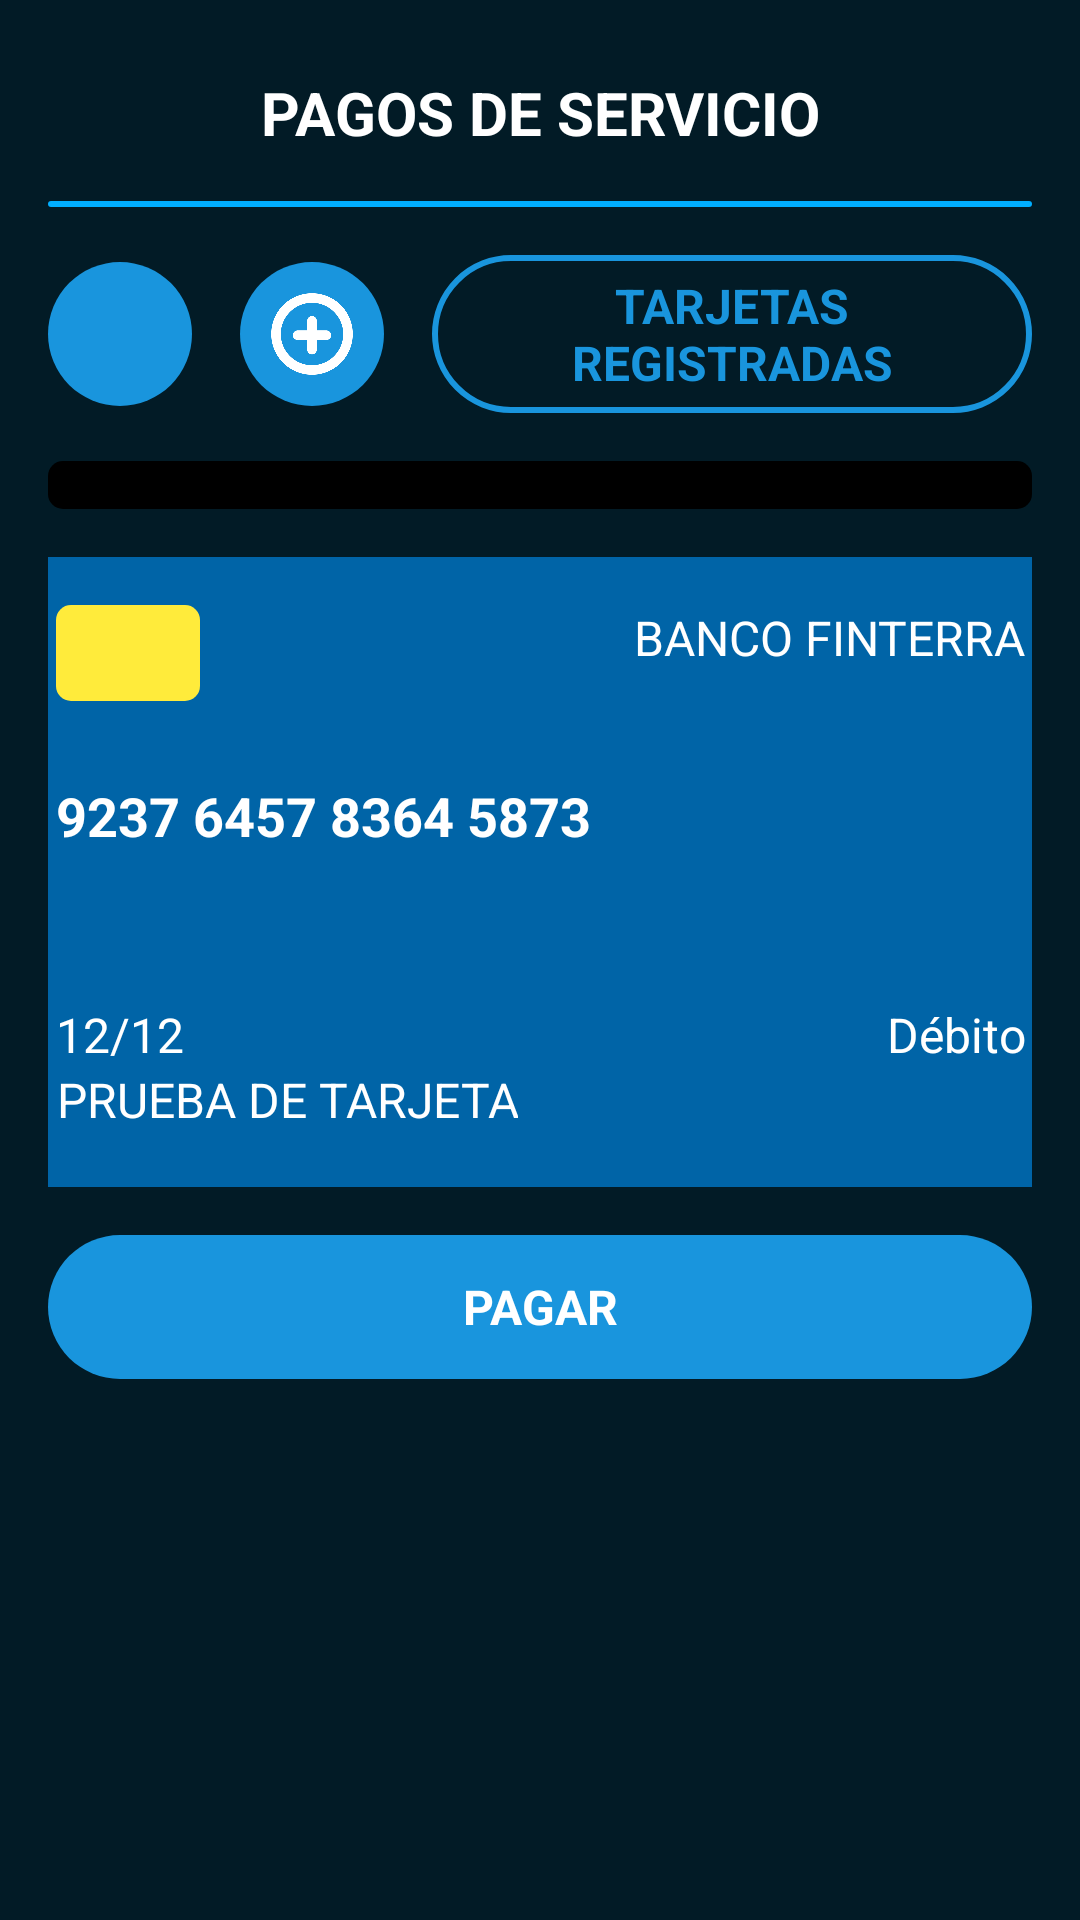

Icons on this 1080w x 1920h Android screen, each with the point to tap as (x=x, y=y):
Agregar: (x=312, y=334)
